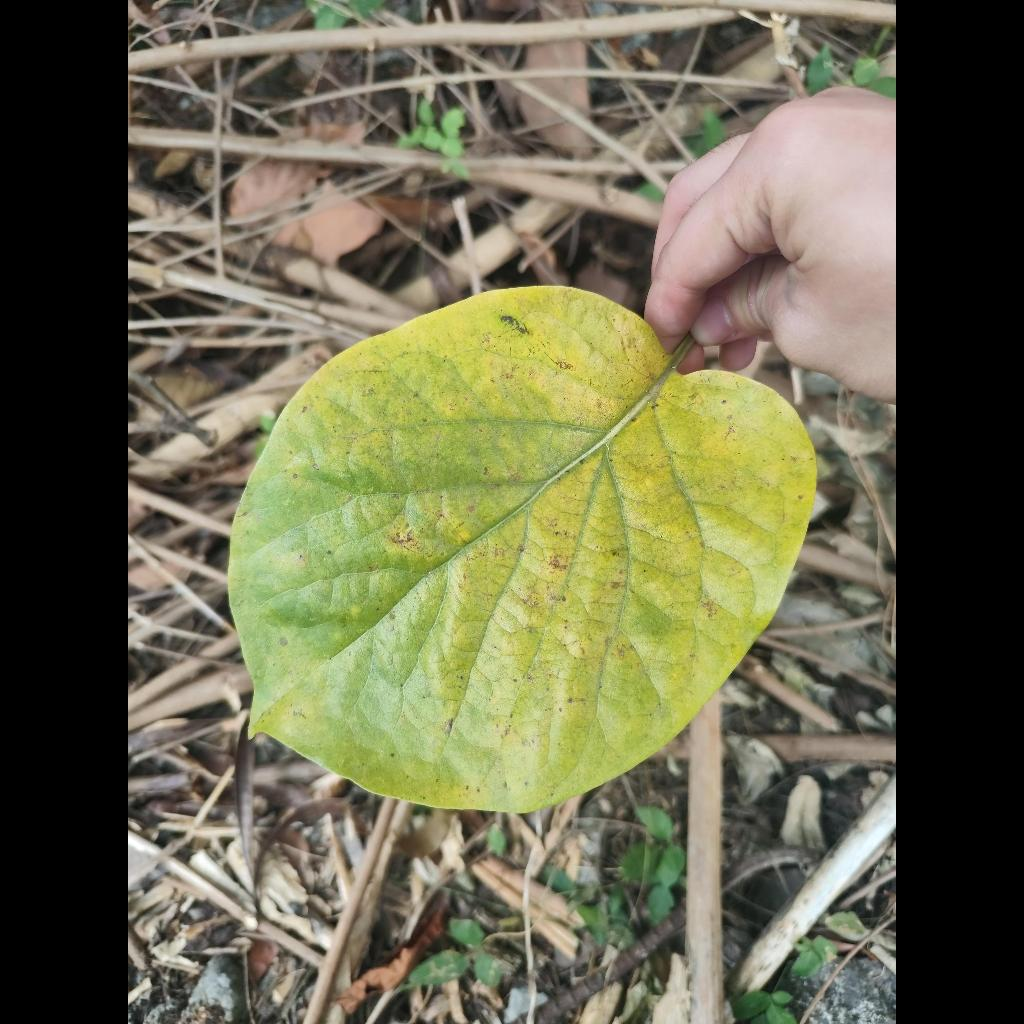deficiencia_nutricional: (229, 288, 816, 811)
